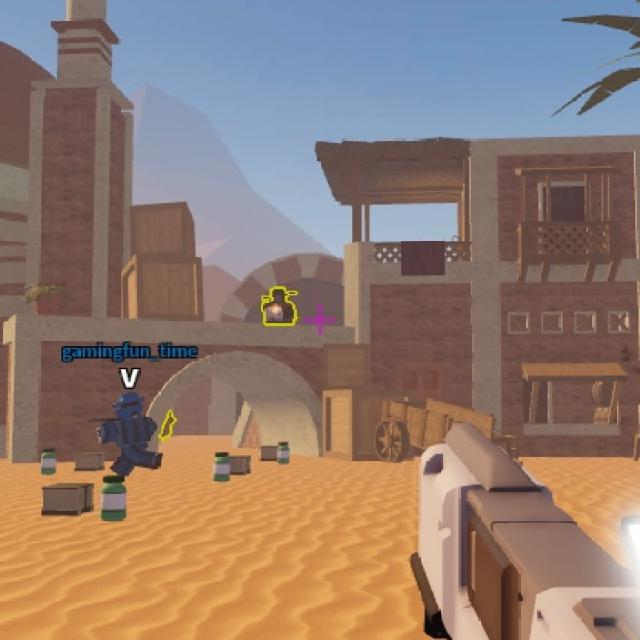player: (260, 285, 295, 330)
